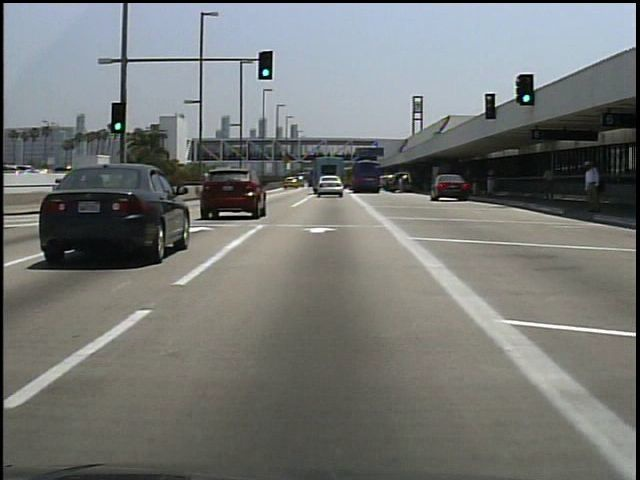person: (578, 157, 601, 219), (537, 158, 557, 206)
